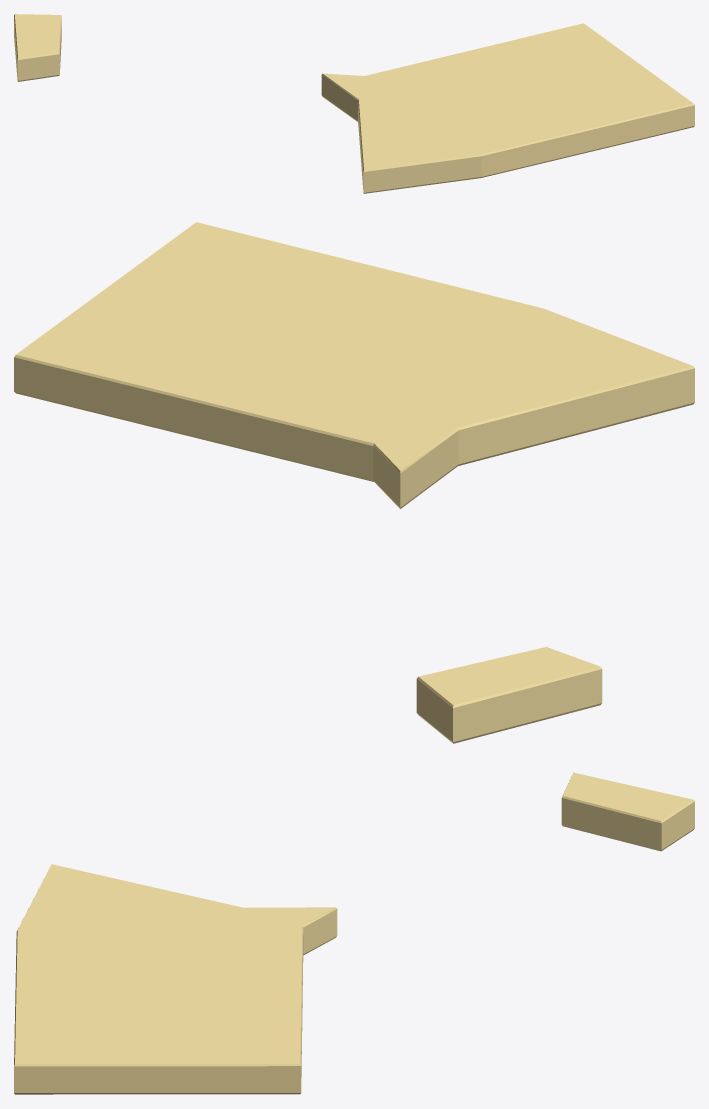
Rendered from GNQ.glb.
3 views of the same model, one above another, from view 1: azimuth 30°, elevation 25°; view 2: azimuth 150°, elevation 25°; view 3: azimuth 270°, elevation 25° (orthographic). The views are drawn at different scales.
Bounding box in the file's own units: 1.4 × 0.068 × 1.38.
